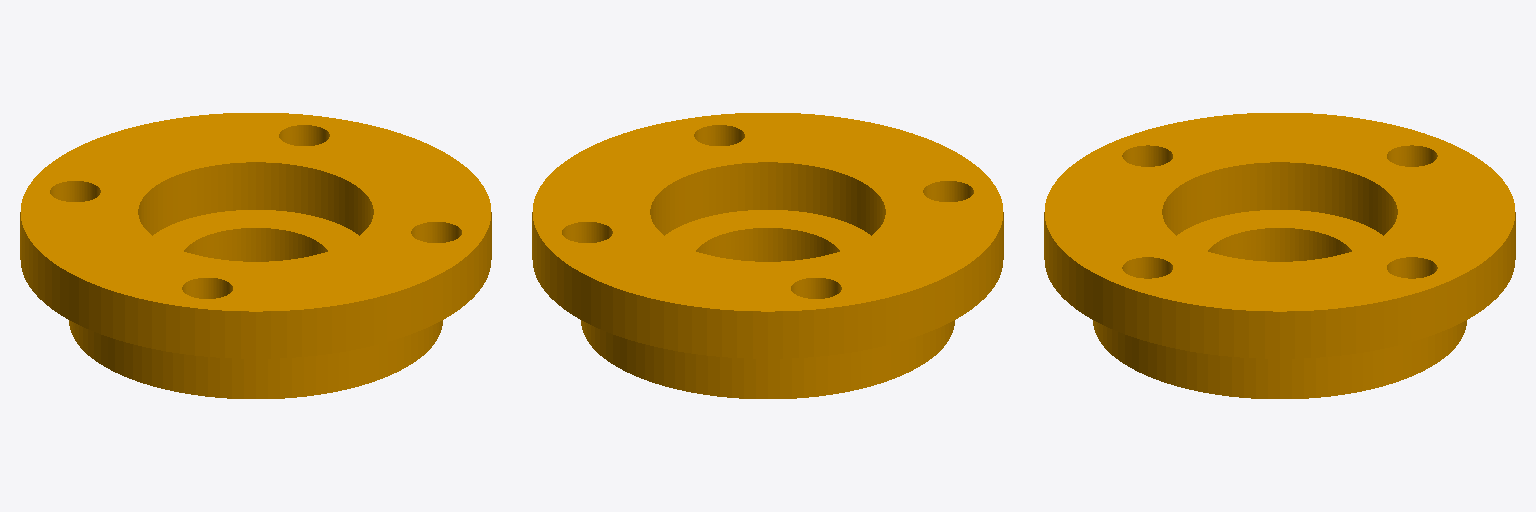
robot.urdf — kosmek_swrz0070_tf4:
<?xml version="1.0"?>
<robot name="kosmek_swrz0070_tf4">
<link name="mount"><visual ><geometry ><mesh filename="../meshes/tf4/mount.obj"/></geometry></visual><collision ><origin xyz="0 0 0.0045" rpy="0 0 0"/><geometry ><cylinder radius="0.025" length="0.009"/></geometry></collision><collision ><origin xyz="0 0 0.0125" rpy="0 0 0"/><geometry ><cylinder radius="0.0315" length="0.007"/></geometry></collision></link>
<link name="flange"></link>
<joint name="flange_joint" type="fixed"><parent link="mount"/><child link="flange"/><origin xyz="0 0 0.016" rpy="0 0 0"/></joint>
</robot>

--- What the picture shows (computed from the rendered views, not written in the file) ---
Views: 3 orthographic renders of the robot side by side, from view 1: azimuth 30°, elevation 25°; view 2: azimuth 150°, elevation 25°; view 3: azimuth 270°, elevation 25°.
Model kosmek_swrz0070_tf4 with 2 links and 1 joints (1 fixed), rooted at mount, posed all joints at 0.
Links seen in each view (by area): view 1: mount; view 2: mount; view 3: mount.
Boxes of the visible links, x1,y1,x2,y2 form: mount: (20, 113, 491, 398); mount: (532, 113, 1003, 398); mount: (1044, 113, 1515, 398).
Size in the robot's own frame: 0.063 by 0.063 by 0.016 metres.
Meshes: 1 distinct files referenced, 1 mesh visuals loaded (1 OBJ).
